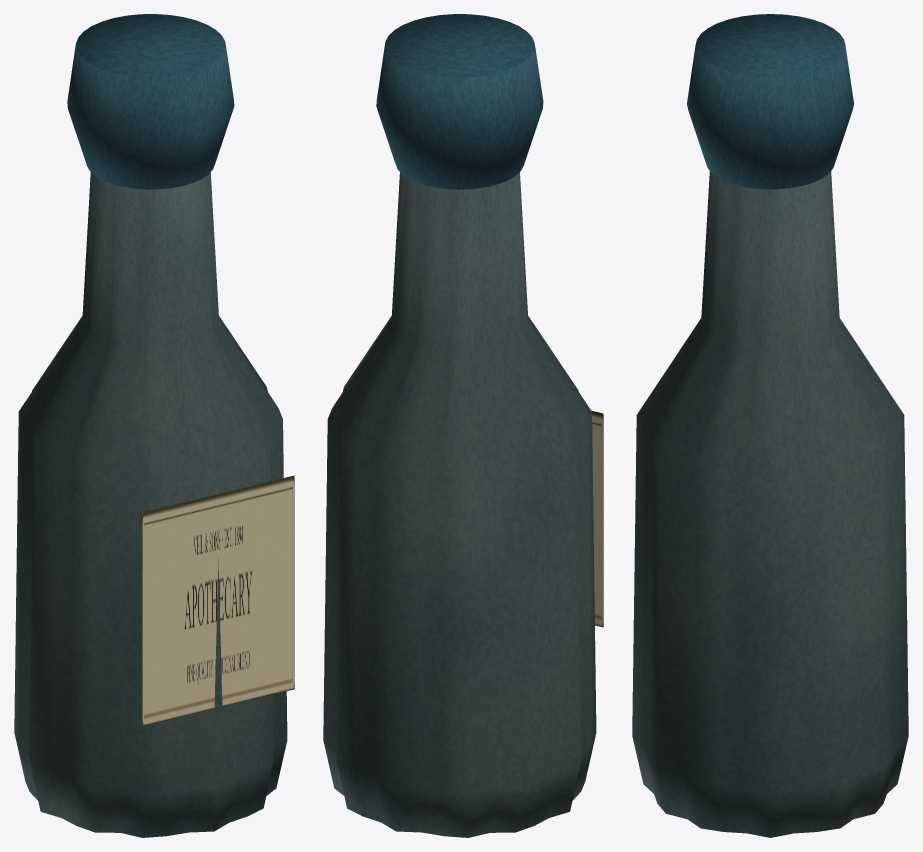
The model's file is Medicine.fbx.
The picture shows the model from 3 angles, left to right: view 1: azimuth 30°, elevation 25°; view 2: azimuth 150°, elevation 25°; view 3: azimuth 270°, elevation 25°; orthographic projection.
Visible parts, largest first — view 1: Medicine_GlassPatina, Medicine_Decals, Medicine_BlueGlaze; view 2: Medicine_GlassPatina, Medicine_BlueGlaze, Medicine_Decals; view 3: Medicine_GlassPatina, Medicine_BlueGlaze.
Boxes of the visible parts, left/top/right/bottom form: Medicine_GlassPatina: left=14, top=172, right=287, bottom=837; Medicine_Decals: left=142, top=475, right=294, bottom=726; Medicine_BlueGlaze: left=67, top=14, right=234, bottom=189; Medicine_GlassPatina: left=323, top=172, right=596, bottom=837; Medicine_BlueGlaze: left=376, top=14, right=543, bottom=189; Medicine_Decals: left=591, top=410, right=603, bottom=627; Medicine_GlassPatina: left=632, top=171, right=908, bottom=837; Medicine_BlueGlaze: left=687, top=14, right=853, bottom=189.
Bounding box in the file's own units: 12.9 × 38 × 12.9.
